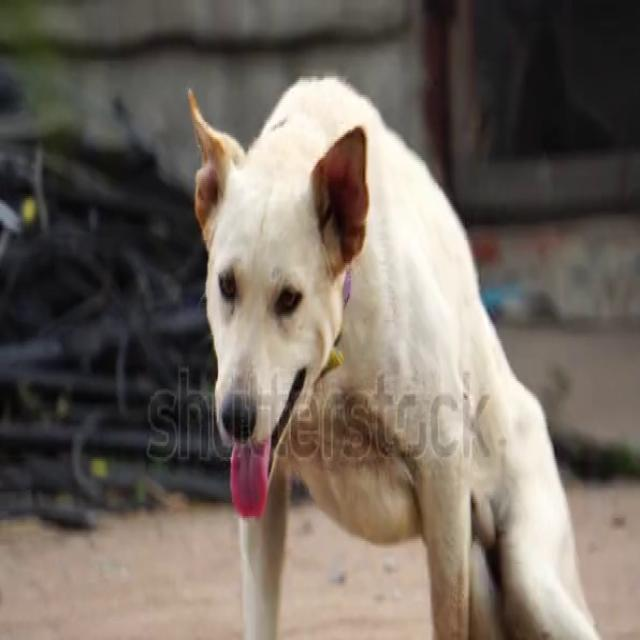normal_animals: (182, 69, 630, 638)
